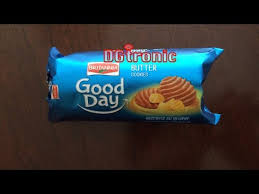gooday-small: (47, 46, 225, 124)
